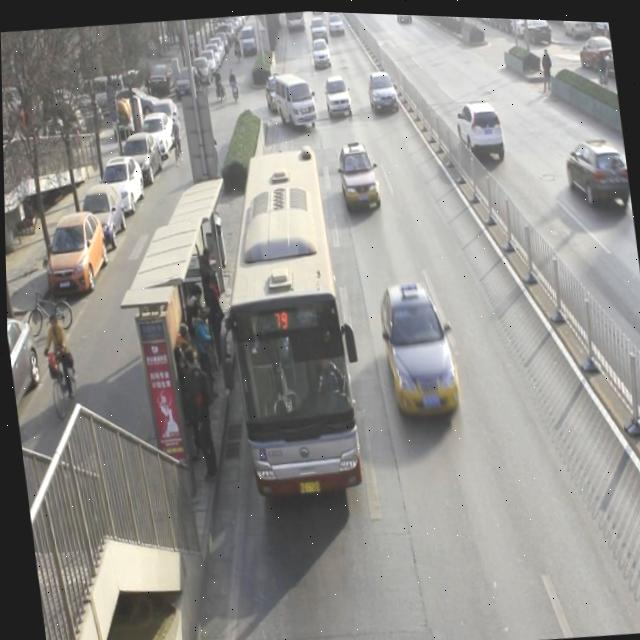car: (375, 280, 461, 420), (565, 128, 627, 207), (454, 96, 506, 163), (336, 138, 380, 211), (367, 69, 400, 115), (322, 73, 354, 119), (264, 71, 289, 114), (309, 34, 333, 68), (309, 14, 327, 39), (326, 11, 346, 33)
truck: (273, 71, 318, 132)
van: (212, 143, 360, 495)
